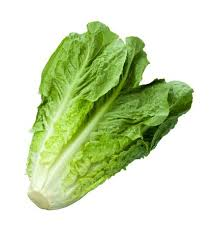lettuce: (27, 19, 189, 209)
